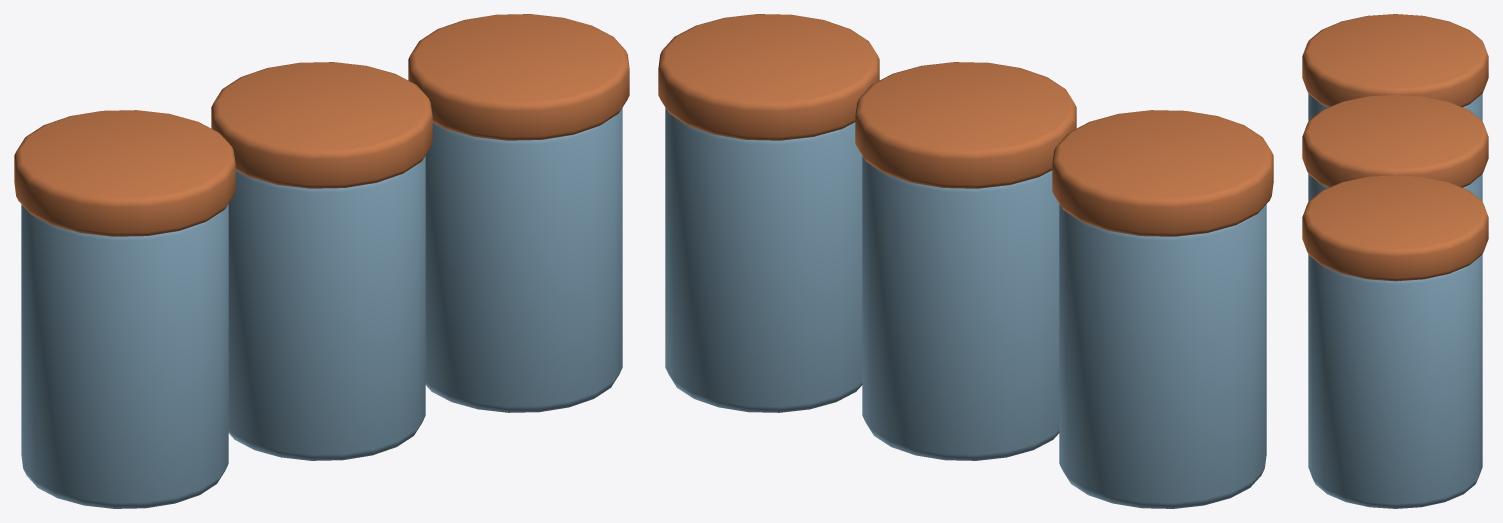
The model's file is PR3D_Environment_Jar.fbx.
3 views of the same model, side by side, from view 1: azimuth 30°, elevation 25°; view 2: azimuth 150°, elevation 25°; view 3: azimuth 270°, elevation 25° (orthographic). The views are drawn at different scales.
Parts seen in each view (by area): view 1: Visual_JarGlass_0, Visual_JarGlass_1, Visual_JarGlass_2, Visual_JarLid_0, Visual_JarLid_2, Visual_JarLid_1; view 2: Visual_JarGlass_0, Visual_JarGlass_1, Visual_JarGlass_2, Visual_JarLid_0, Visual_JarLid_2, Visual_JarLid_1; view 3: Visual_JarGlass_2, Visual_JarLid_2, Visual_JarLid_0, Visual_JarLid_1, Visual_JarGlass_0, Visual_JarGlass_1.
Boxes of the visible parts, x1=… form: Visual_JarGlass_0: x1=21, y1=204, x2=228, y2=508; Visual_JarGlass_1: x1=228, y1=156, x2=425, y2=460; Visual_JarGlass_2: x1=425, y1=108, x2=622, y2=412; Visual_JarLid_0: x1=14, y1=110, x2=235, y2=236; Visual_JarLid_2: x1=408, y1=14, x2=629, y2=140; Visual_JarLid_1: x1=211, y1=62, x2=432, y2=188; Visual_JarGlass_0: x1=1059, y1=204, x2=1266, y2=508; Visual_JarGlass_1: x1=862, y1=156, x2=1059, y2=460; Visual_JarGlass_2: x1=665, y1=108, x2=862, y2=412; Visual_JarLid_0: x1=1052, y1=110, x2=1273, y2=236; Visual_JarLid_2: x1=658, y1=14, x2=879, y2=140; Visual_JarLid_1: x1=855, y1=62, x2=1076, y2=188; Visual_JarGlass_2: x1=1308, y1=254, x2=1482, y2=508; Visual_JarLid_2: x1=1302, y1=175, x2=1488, y2=281; Visual_JarLid_0: x1=1302, y1=14, x2=1488, y2=107; Visual_JarLid_1: x1=1302, y1=94, x2=1488, y2=187; Visual_JarGlass_0: x1=1308, y1=94, x2=1482, y2=120; Visual_JarGlass_1: x1=1308, y1=174, x2=1482, y2=201.
Bounding box in the file's own units: 1.43 × 0.735 × 0.47.
